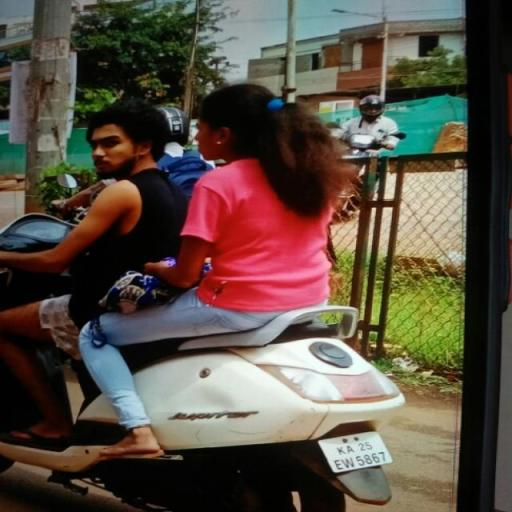bike: (5, 77, 414, 512)
numberplate: (322, 426, 393, 474)
withouthelmet: (82, 97, 174, 171), (198, 85, 282, 157)
